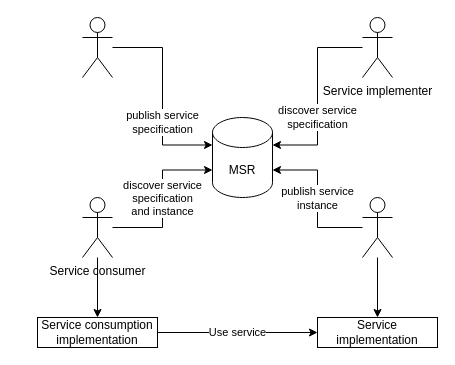
Image size: 455x365. Some labels were removed from this diagram. The shapes that lost their labels are listed below. From the top down, each one's box as (x1, y1, x2, y2) in pixels, then its label:
(82, 16, 112, 78): Service specification producer
(362, 196, 392, 258): Service provider
